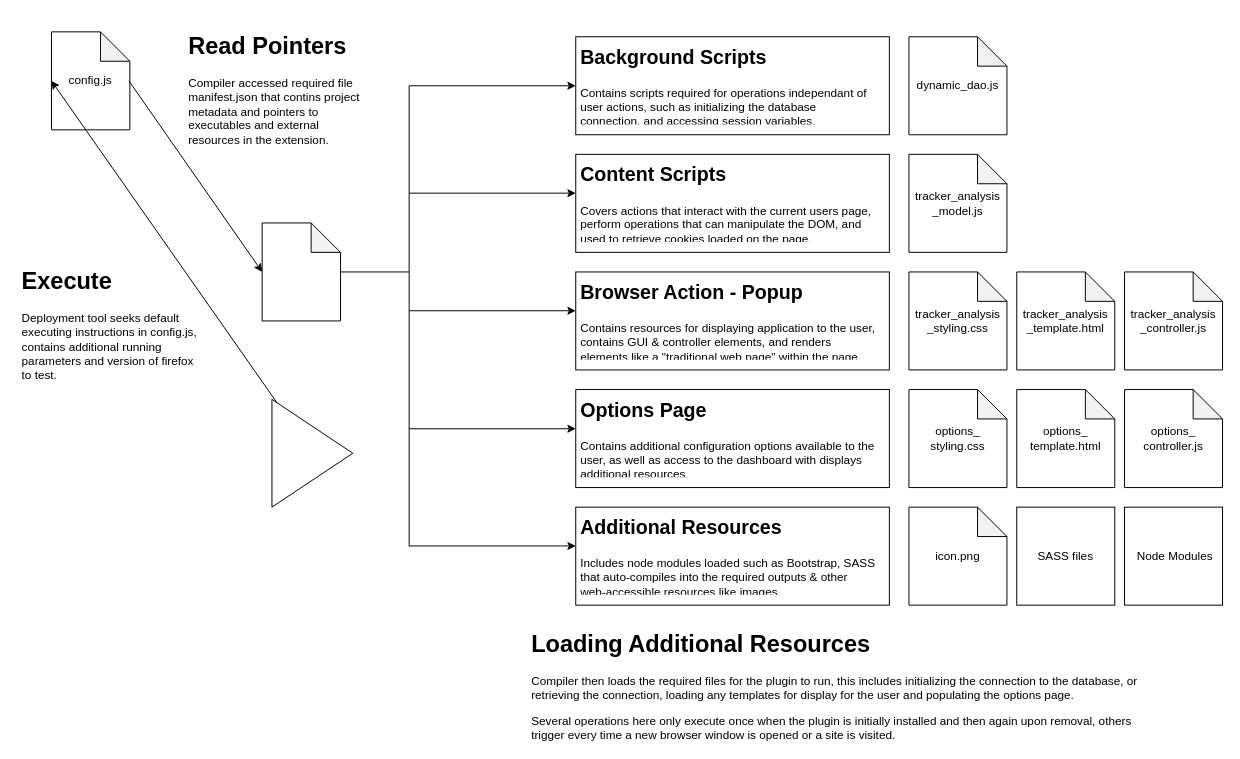
Image size: 1240x759. Some labels were removed from this diagram. Here are the shapes that lost their labels. From the top down, the box of each, then its label:
(261, 222, 341, 321): manifest.json
(271, 398, 353, 507): web-ext (Compile)
